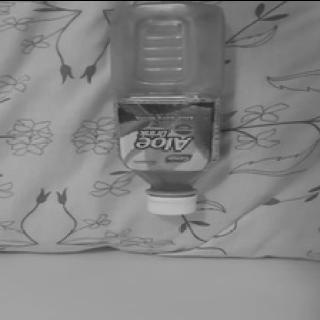plastic_bottles: (115, 0, 220, 220)
